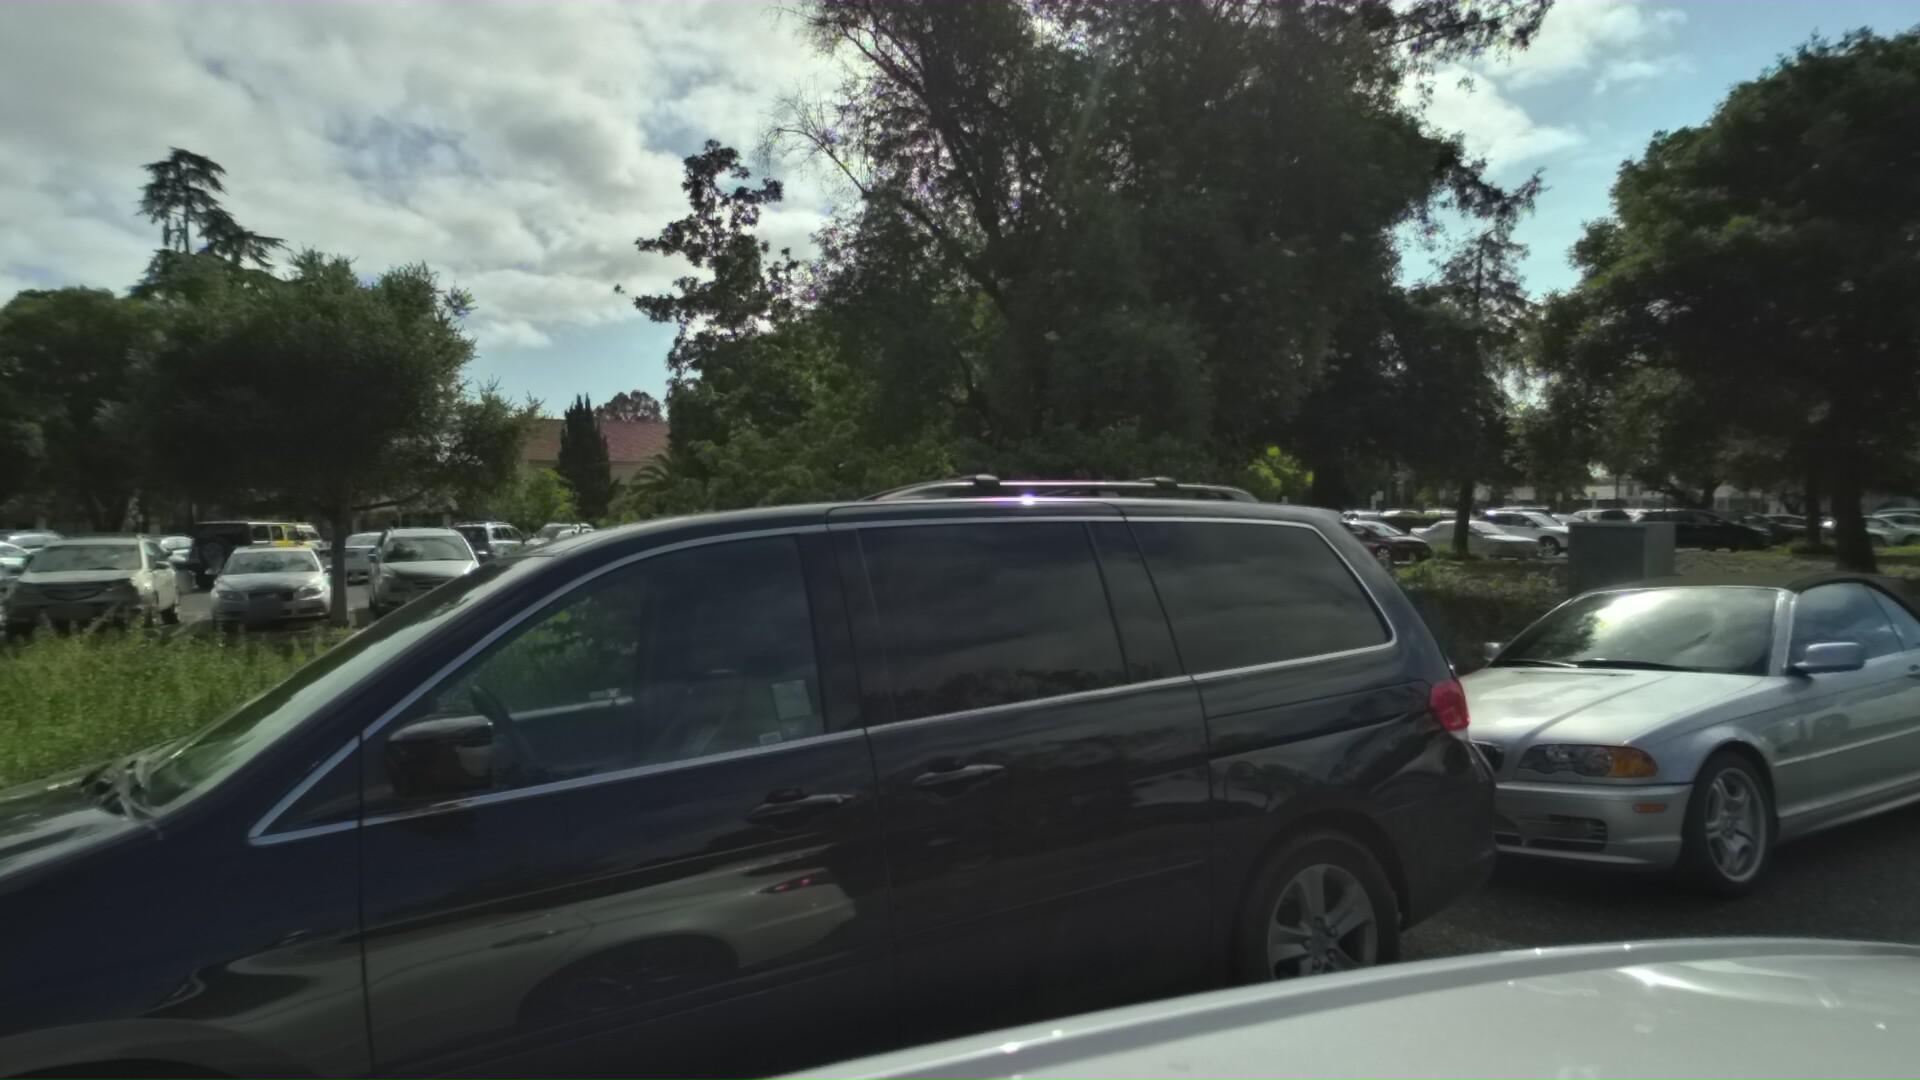car: (0, 343, 1631, 1080), (1325, 535, 1920, 972)
